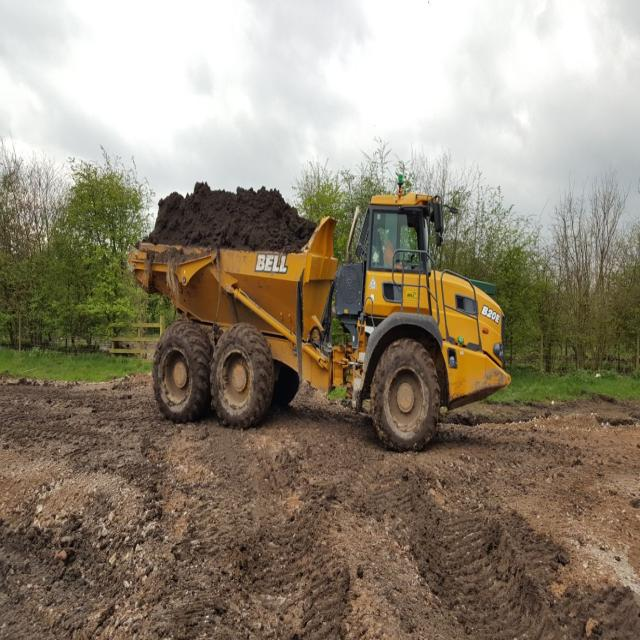dump_truck: (144, 165, 508, 474)
